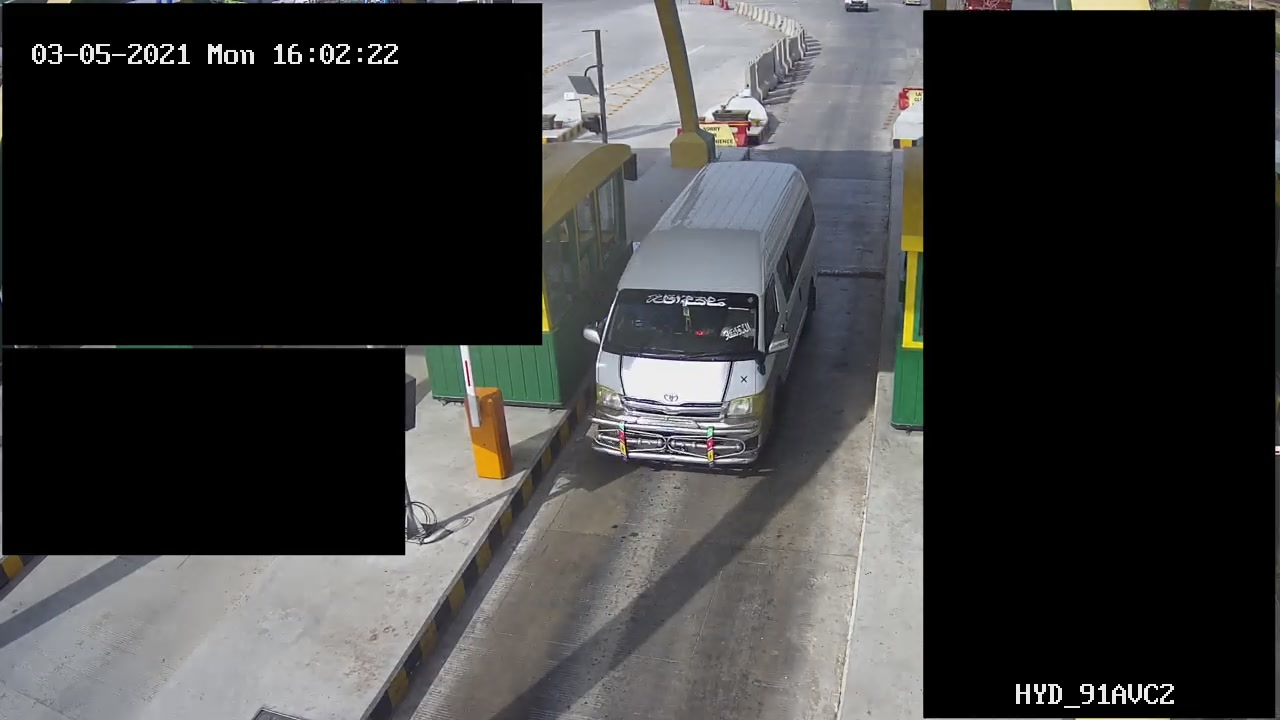F2: (573, 154, 828, 470)
